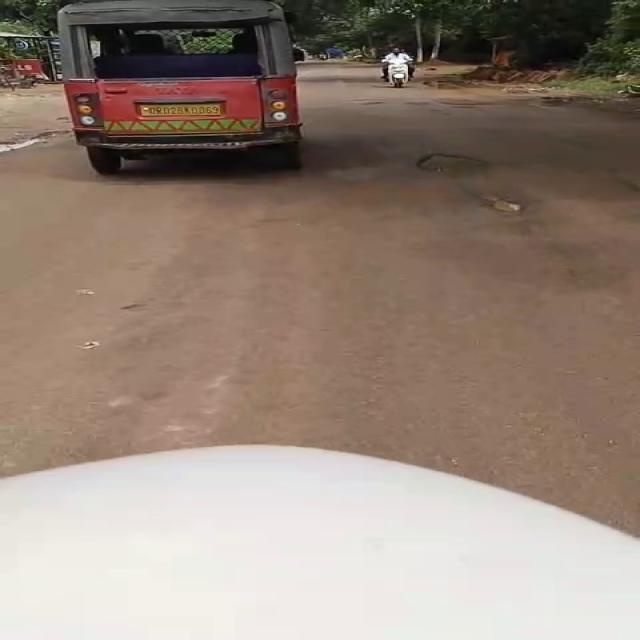pothole: (416, 146, 491, 181), (123, 299, 193, 320), (478, 190, 532, 214), (0, 133, 53, 155)
